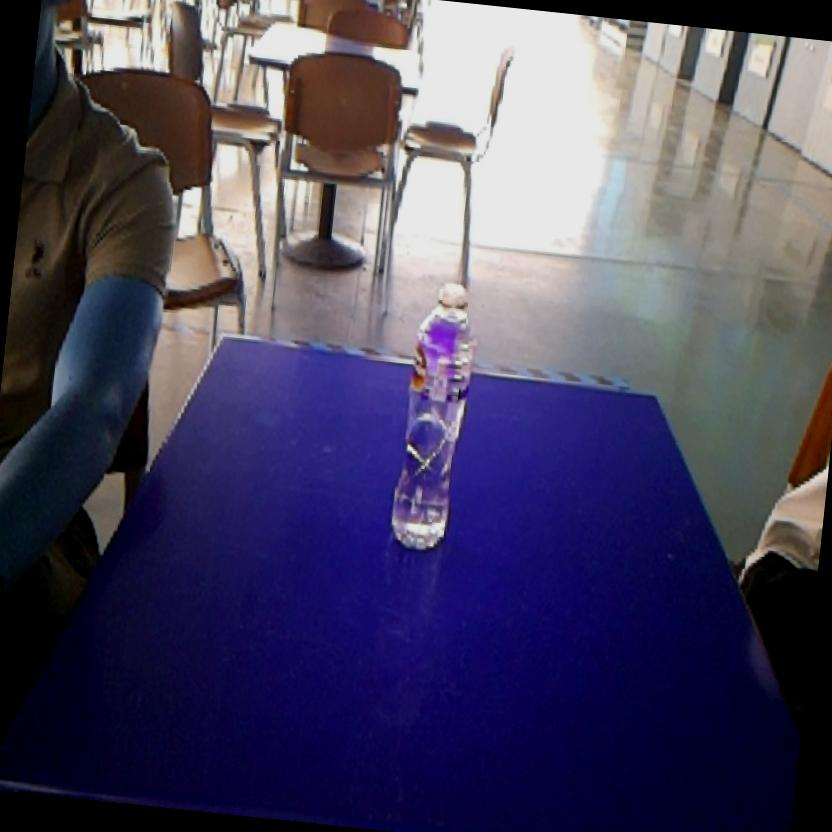no_cap: (376, 268, 491, 566)
